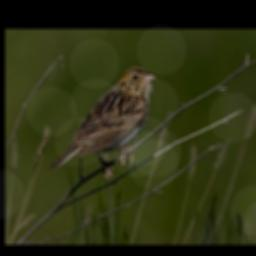Sparrow: (48, 66, 158, 180)
